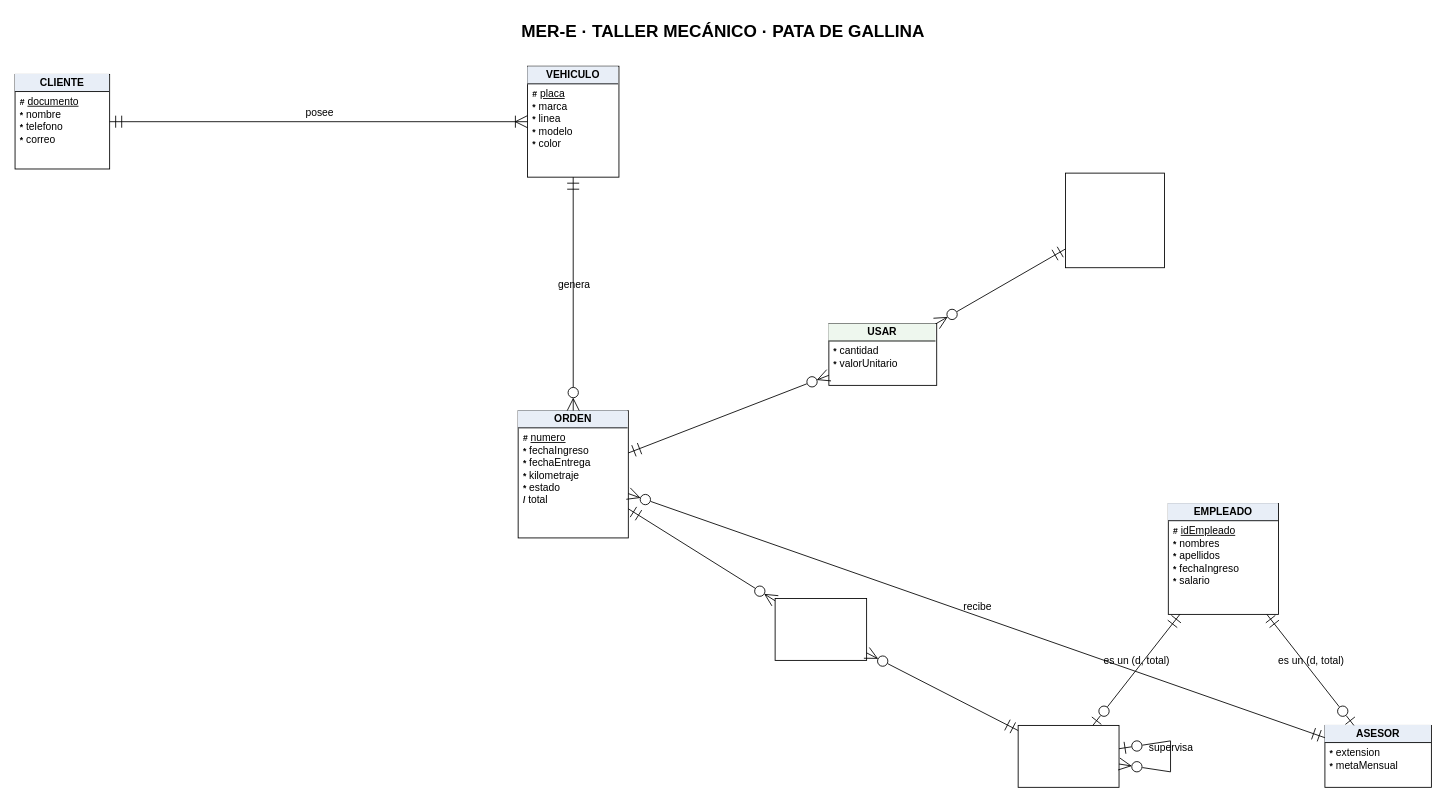
The diagram is 1447 pixels wide and 802 high, and some of its shapes have lost their labels. Each missing label, with the centre of its shape:
"MECANICO * especialidad * nivel" belongs at point 1068,756.
"REPUESTO # codigo * nombre * precioLista * stock" belongs at point 1114,220.
"TRABAJAR * horas * labor" belongs at point 820,629.
